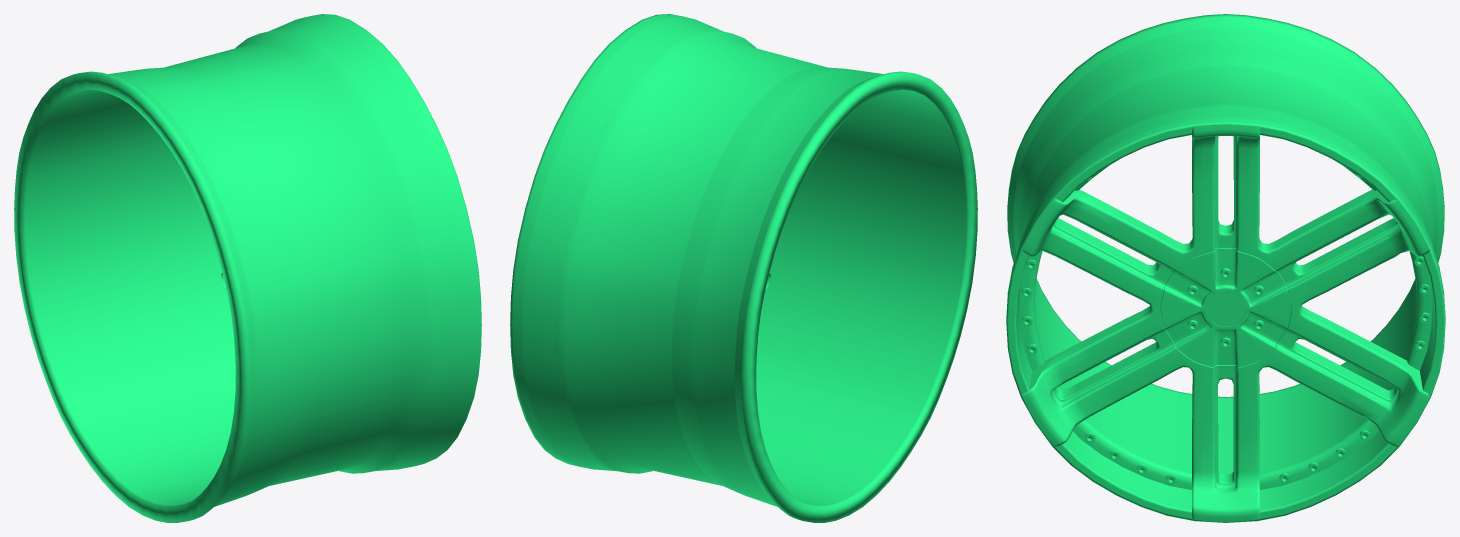
File: tis04.fbx
The picture shows the model from 3 angles, left to right: view 1: azimuth 30°, elevation 25°; view 2: azimuth 150°, elevation 25°; view 3: azimuth 270°, elevation 25°; orthographic projection. The views are drawn at different scales.
Visible parts, largest first — view 1: tis04; view 2: tis04; view 3: tis04.
Part boxes in pixels (<box>): tis04: <box>14,14,481,522</box>; tis04: <box>510,14,977,522</box>; tis04: <box>1006,14,1445,522</box>.
Bounding box in the file's own units: 1454 × 2457 × 2446.
